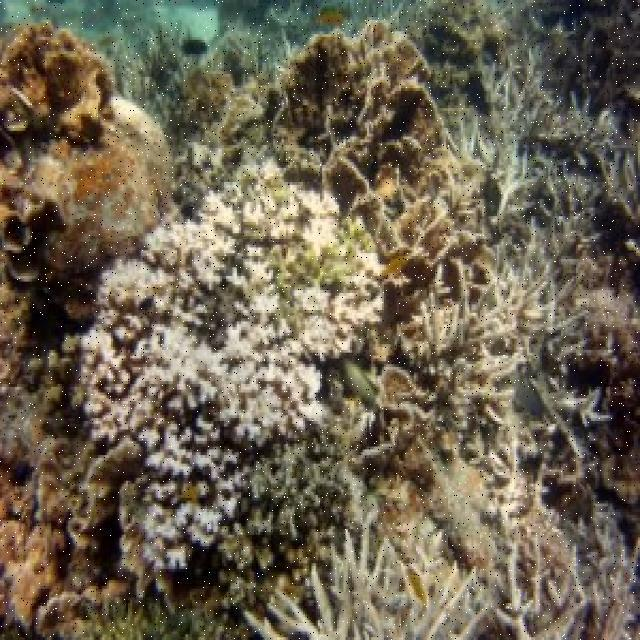Bleached: (404, 47, 640, 640), (75, 159, 384, 579), (242, 518, 490, 640)
Healthy: (180, 21, 461, 188), (3, 17, 150, 245), (1, 444, 112, 640), (559, 6, 640, 111), (423, 1, 535, 75)
